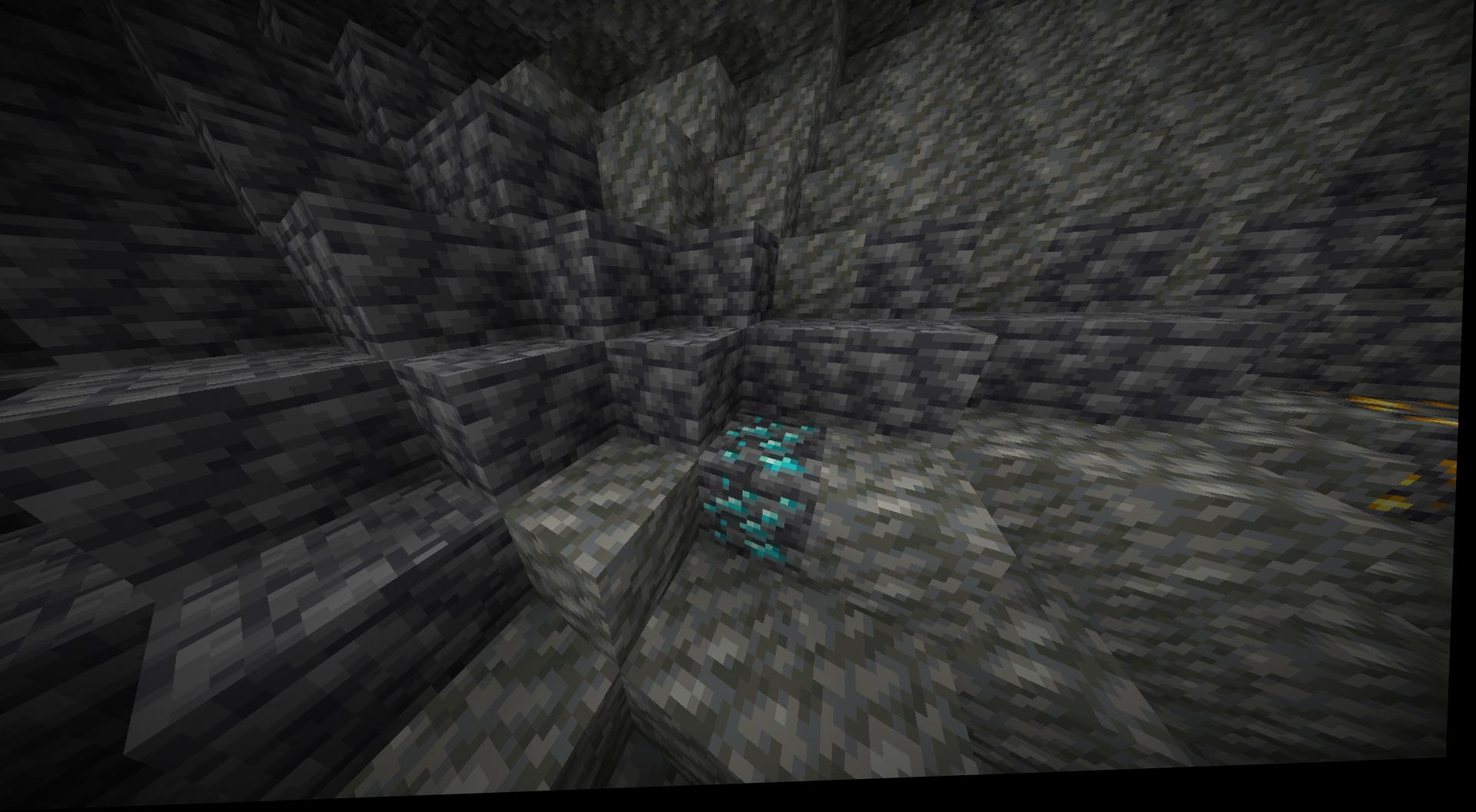diamond ore: (703, 474, 806, 582), (705, 414, 835, 489)
gold ore: (1330, 395, 1463, 541)
